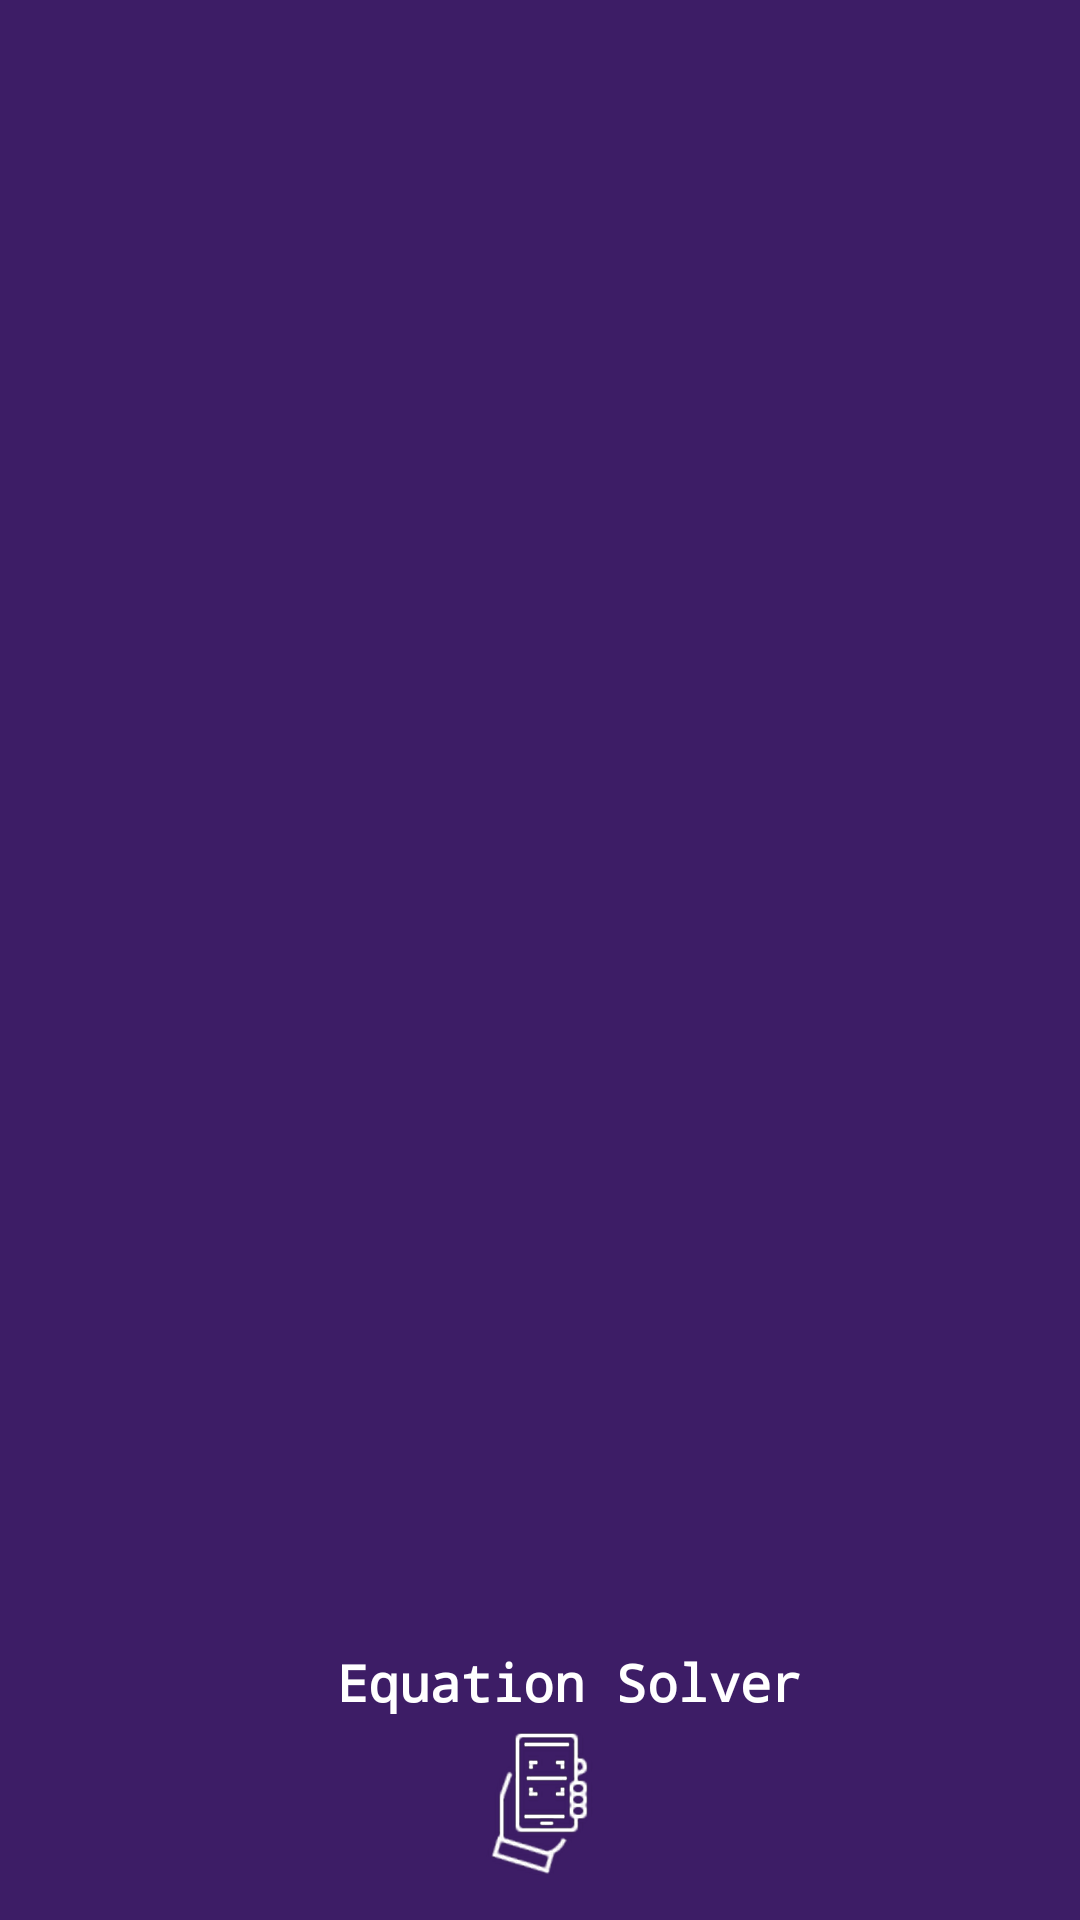

Named icons in this screenshot (1080*1920) and their centers, [x,y]:
scanico: [539,1803]
